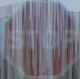Stop: (2, 5, 75, 66)
